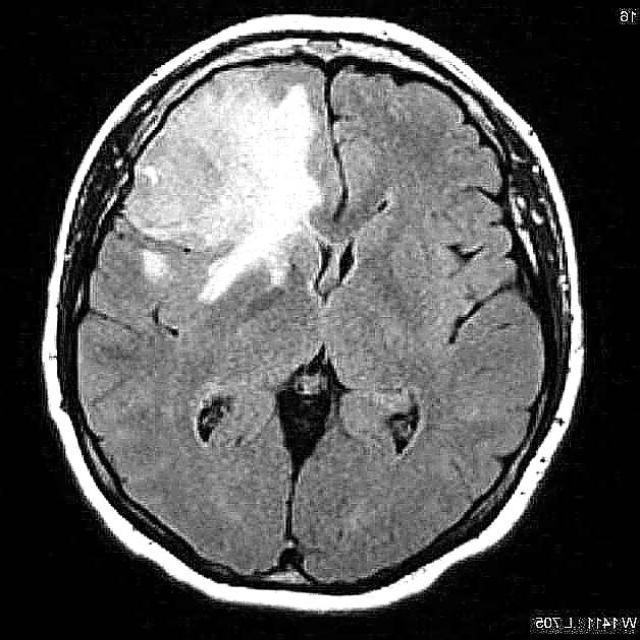brain tumor: (122, 69, 322, 303)
